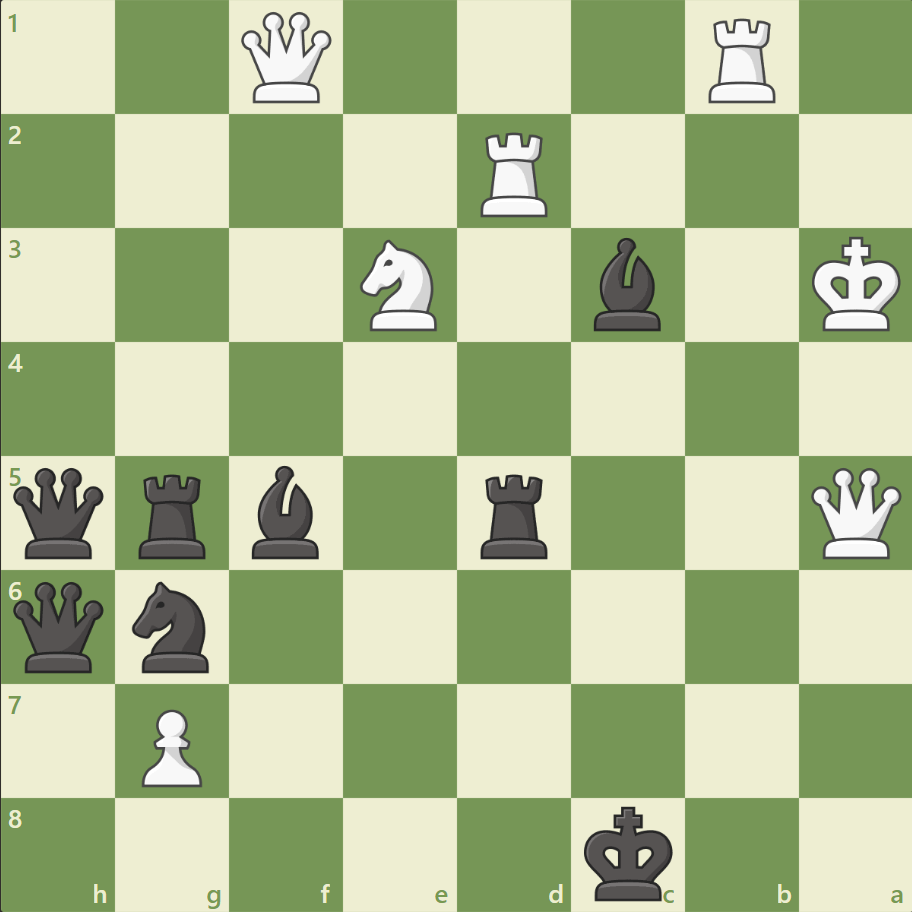K: (806, 231, 906, 339)
N: (351, 234, 449, 337)
P: (133, 700, 208, 791)
Q: (805, 463, 904, 562), (237, 9, 336, 108)
R: (473, 125, 556, 222), (700, 12, 783, 109)
b: (244, 460, 328, 563), (585, 233, 669, 336)
k: (579, 798, 679, 906)
n: (124, 575, 222, 677)
q: (10, 576, 109, 676), (10, 463, 109, 562)
r: (473, 466, 556, 563), (133, 466, 215, 563)
